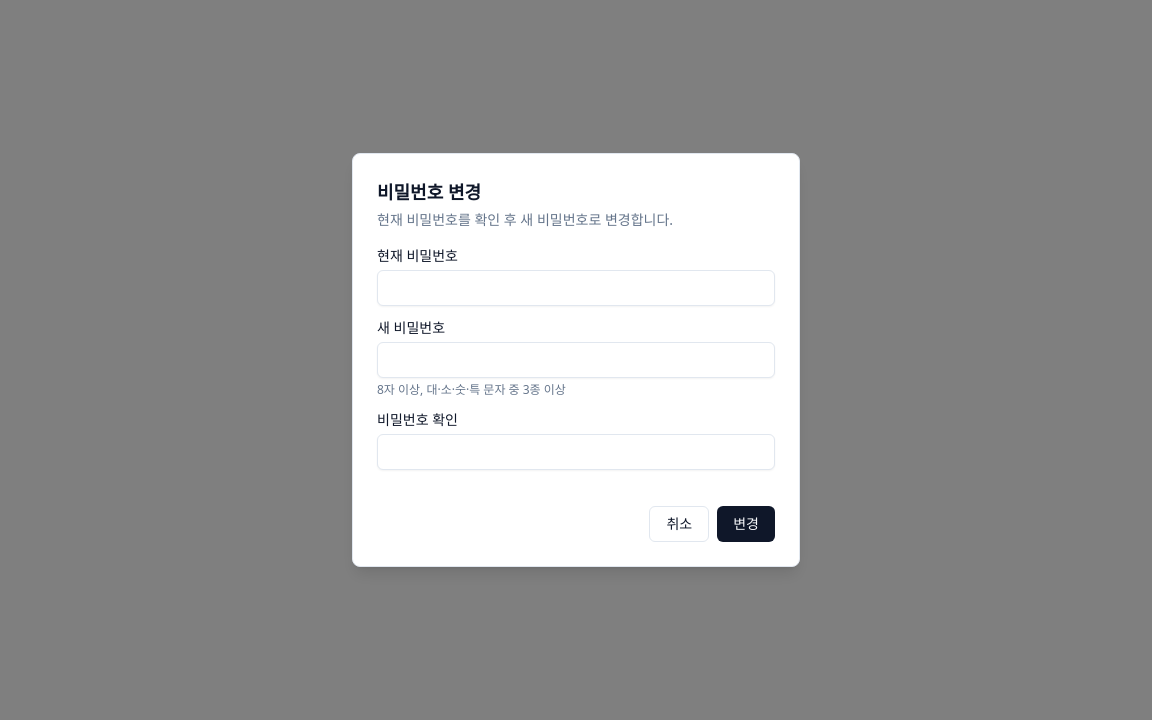
it: ChangePasswordDialog › shows error when confirmPassword does not match newPassword
In the password field labelled "현재 비밀번호": [576, 288] box top-left (377, 270), bottom-right (775, 306), type "OldPass1!"
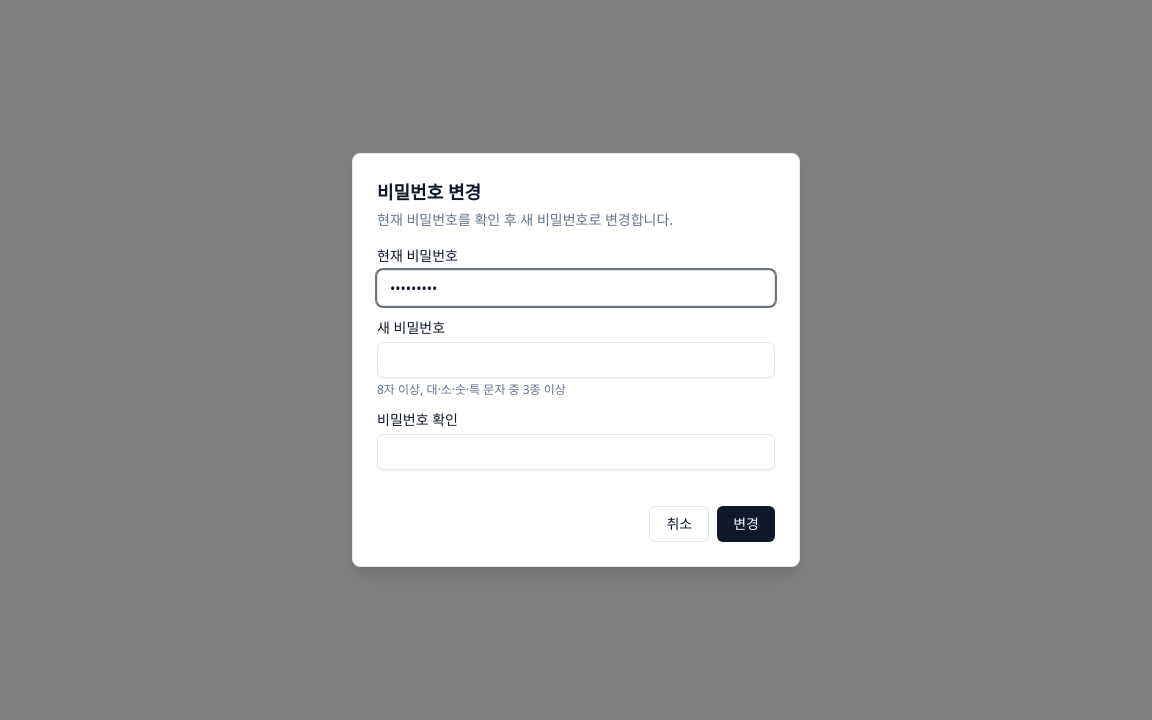
In the password field labelled "새 비밀번호": [576, 360] box top-left (377, 342), bottom-right (775, 378), type "NewPass2@"
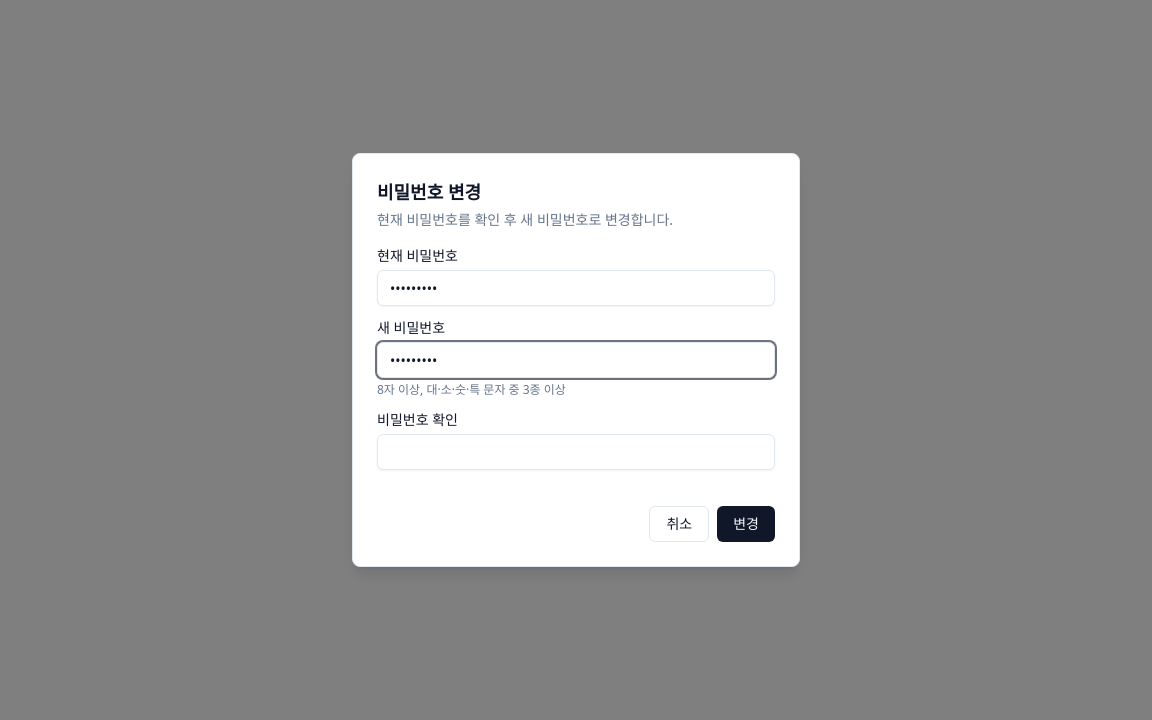
In the password field labelled "비밀번호 확인": [576, 452] box top-left (377, 434), bottom-right (775, 470), type "DifferentPass3#"
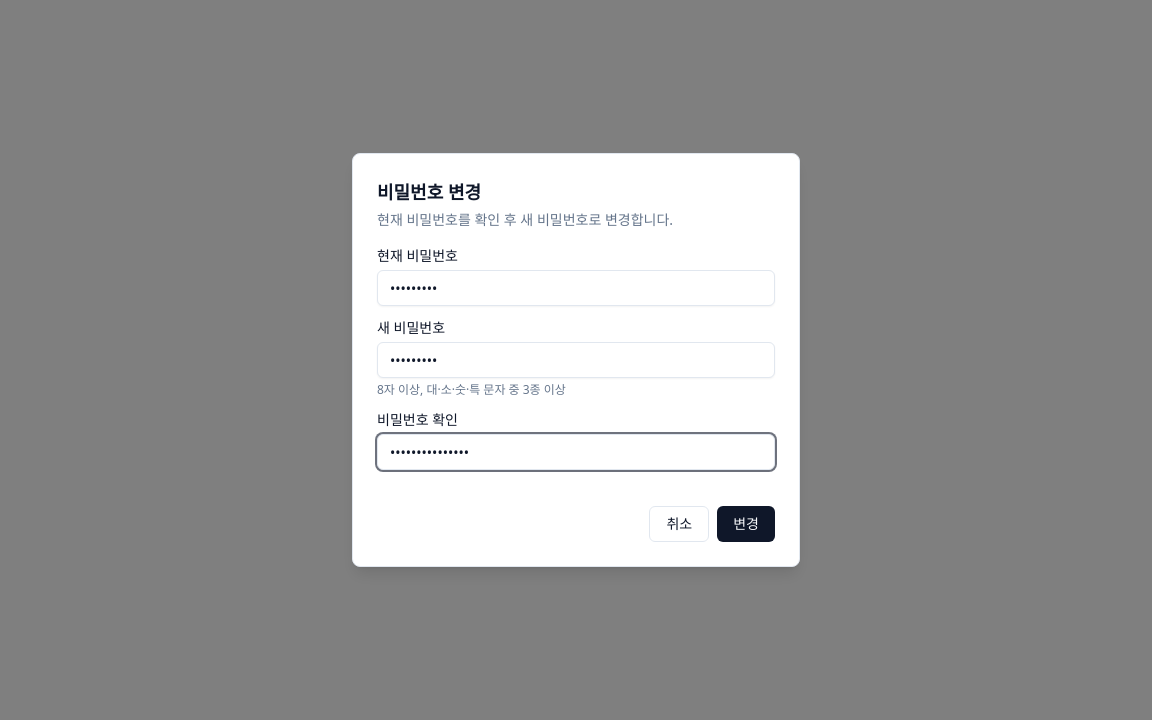
Click the button "변경": [746, 524] box top-left (717, 506), bottom-right (775, 542)
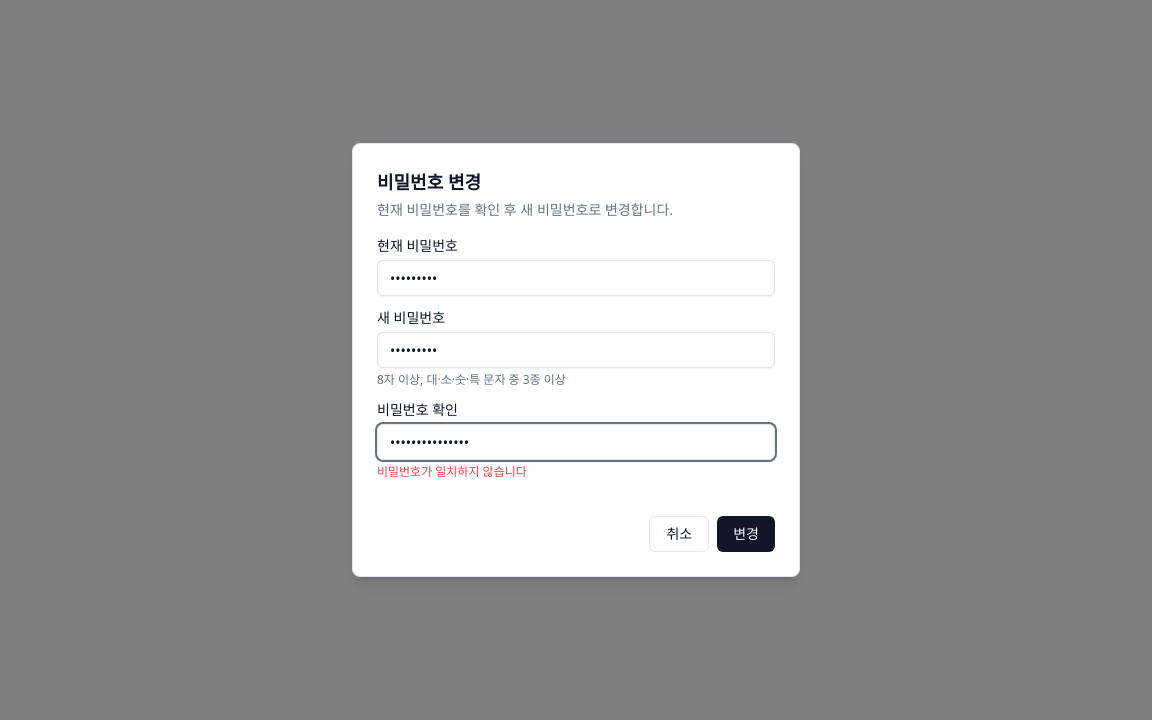
Expected: the text "비밀번호가 일치하지 않습니다" is shown, top-left (377, 463), bottom-right (527, 480)
